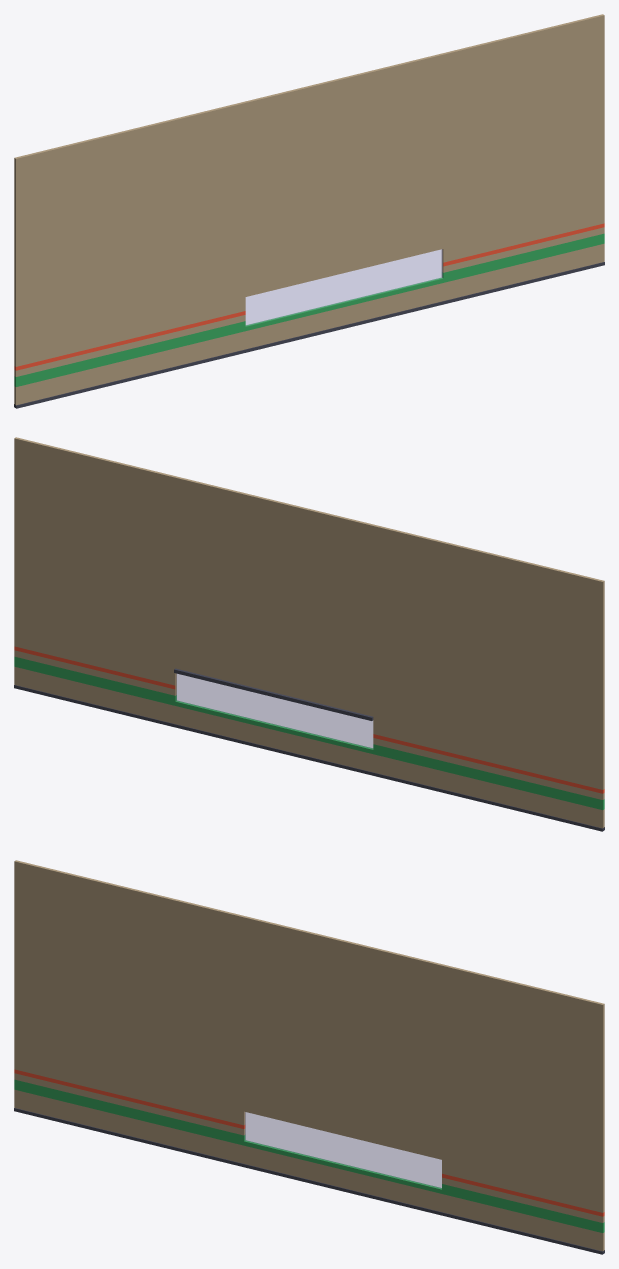
File: WALL window.fbx
3 renders of one model, top to bottom at view 1: azimuth 30°, elevation 25°; view 2: azimuth 150°, elevation 25°; view 3: azimuth 330°, elevation 25°, orthographic.
Visible parts, largest first — view 1: window wall; view 2: window wall; view 3: window wall.
Part boxes in pixels (box(x1,y1,x2,y2)): window wall: box(14, 14, 604, 408); window wall: box(14, 437, 604, 831); window wall: box(14, 860, 604, 1254).
Size of the model in its own units: 106 by 1.08 by 42.76.
